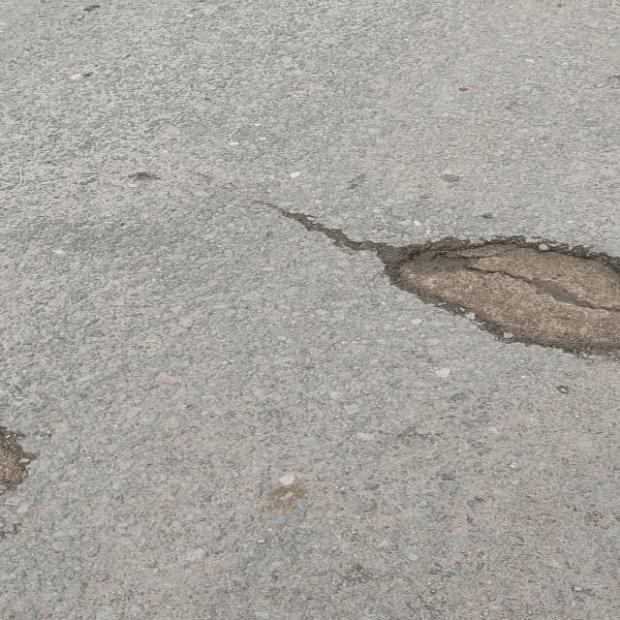lubang: (318, 226, 619, 353), (0, 425, 37, 506)
